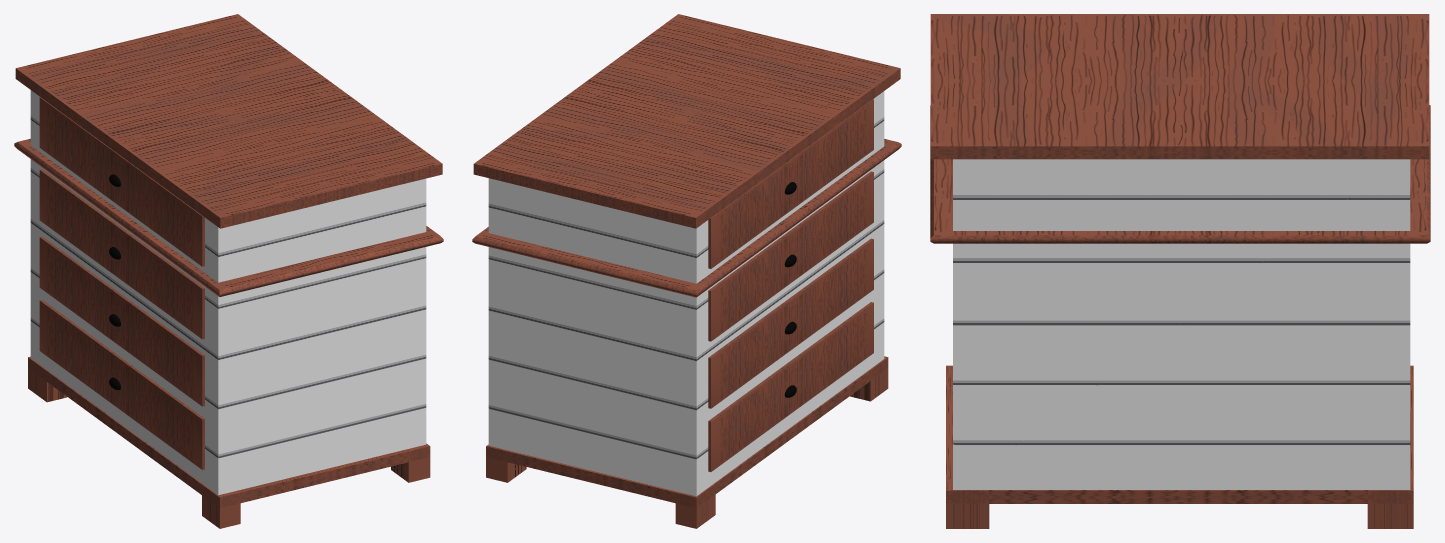
File: Comoda.fbx
The picture shows the model from 3 angles, left to right: view 1: azimuth 30°, elevation 25°; view 2: azimuth 150°, elevation 25°; view 3: azimuth 270°, elevation 25°; orthographic projection. The views are drawn at different scales.
Parts seen in each view (by area): view 1: Criado Mudo001, Detalhes008, Gaveta005, Gaveta004, Gaveta006, Gaveta003, Detalhes009, Detalhes007; view 2: Criado Mudo001, Detalhes008, Gaveta006, Gaveta004, Gaveta005, Gaveta003, Detalhes009, Detalhes007; view 3: Criado Mudo001, Detalhes008, Detalhes009, Detalhes007.
Part boxes in pixels (box(x1,y1,x2,y2)): Criado Mudo001: box(30, 90, 426, 495); Detalhes008: box(15, 14, 442, 228); Gaveta005: box(39, 236, 204, 406); Gaveta004: box(39, 169, 204, 339); Gaveta006: box(39, 300, 204, 469); Gaveta003: box(39, 97, 204, 266); Detalhes009: box(28, 356, 430, 528); Detalhes007: box(14, 138, 443, 296); Criado Mudo001: box(488, 91, 884, 496); Detalhes008: box(473, 14, 900, 228); Gaveta006: box(708, 302, 873, 471); Gaveta004: box(708, 171, 873, 341); Gaveta005: box(708, 238, 873, 408); Gaveta003: box(708, 99, 873, 268); Detalhes009: box(486, 356, 888, 528); Detalhes007: box(472, 139, 901, 297); Criado Mudo001: box(953, 159, 1410, 489); Detalhes008: box(930, 14, 1429, 159); Detalhes009: box(946, 365, 1413, 528); Detalhes007: box(930, 105, 1430, 243).
Bounding box in the file's own units: 73.61 × 99.12 × 116.
